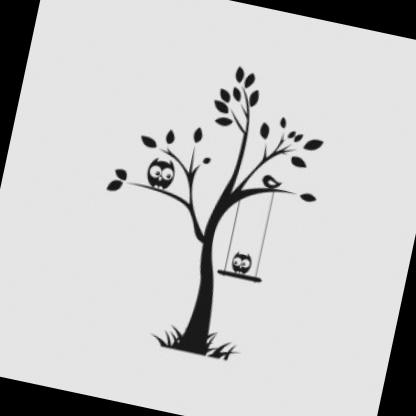trunk_reflex: (177, 245, 228, 342)
